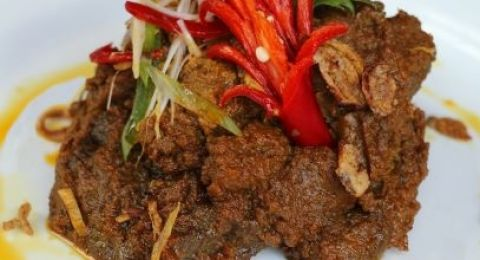rendang: (2, 1, 476, 260)
